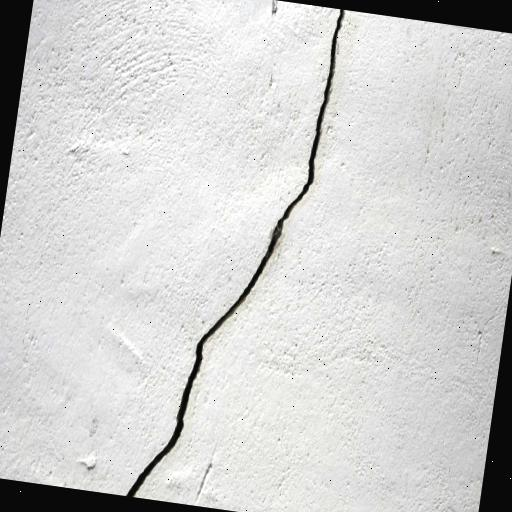spalling: (121, 9, 356, 493)
